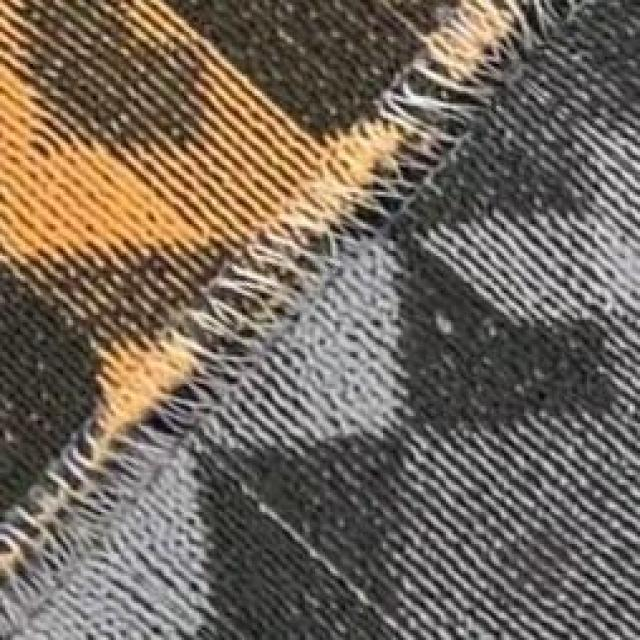gray stitch: (5, 319, 212, 631), (294, 5, 580, 197), (209, 197, 411, 379)
